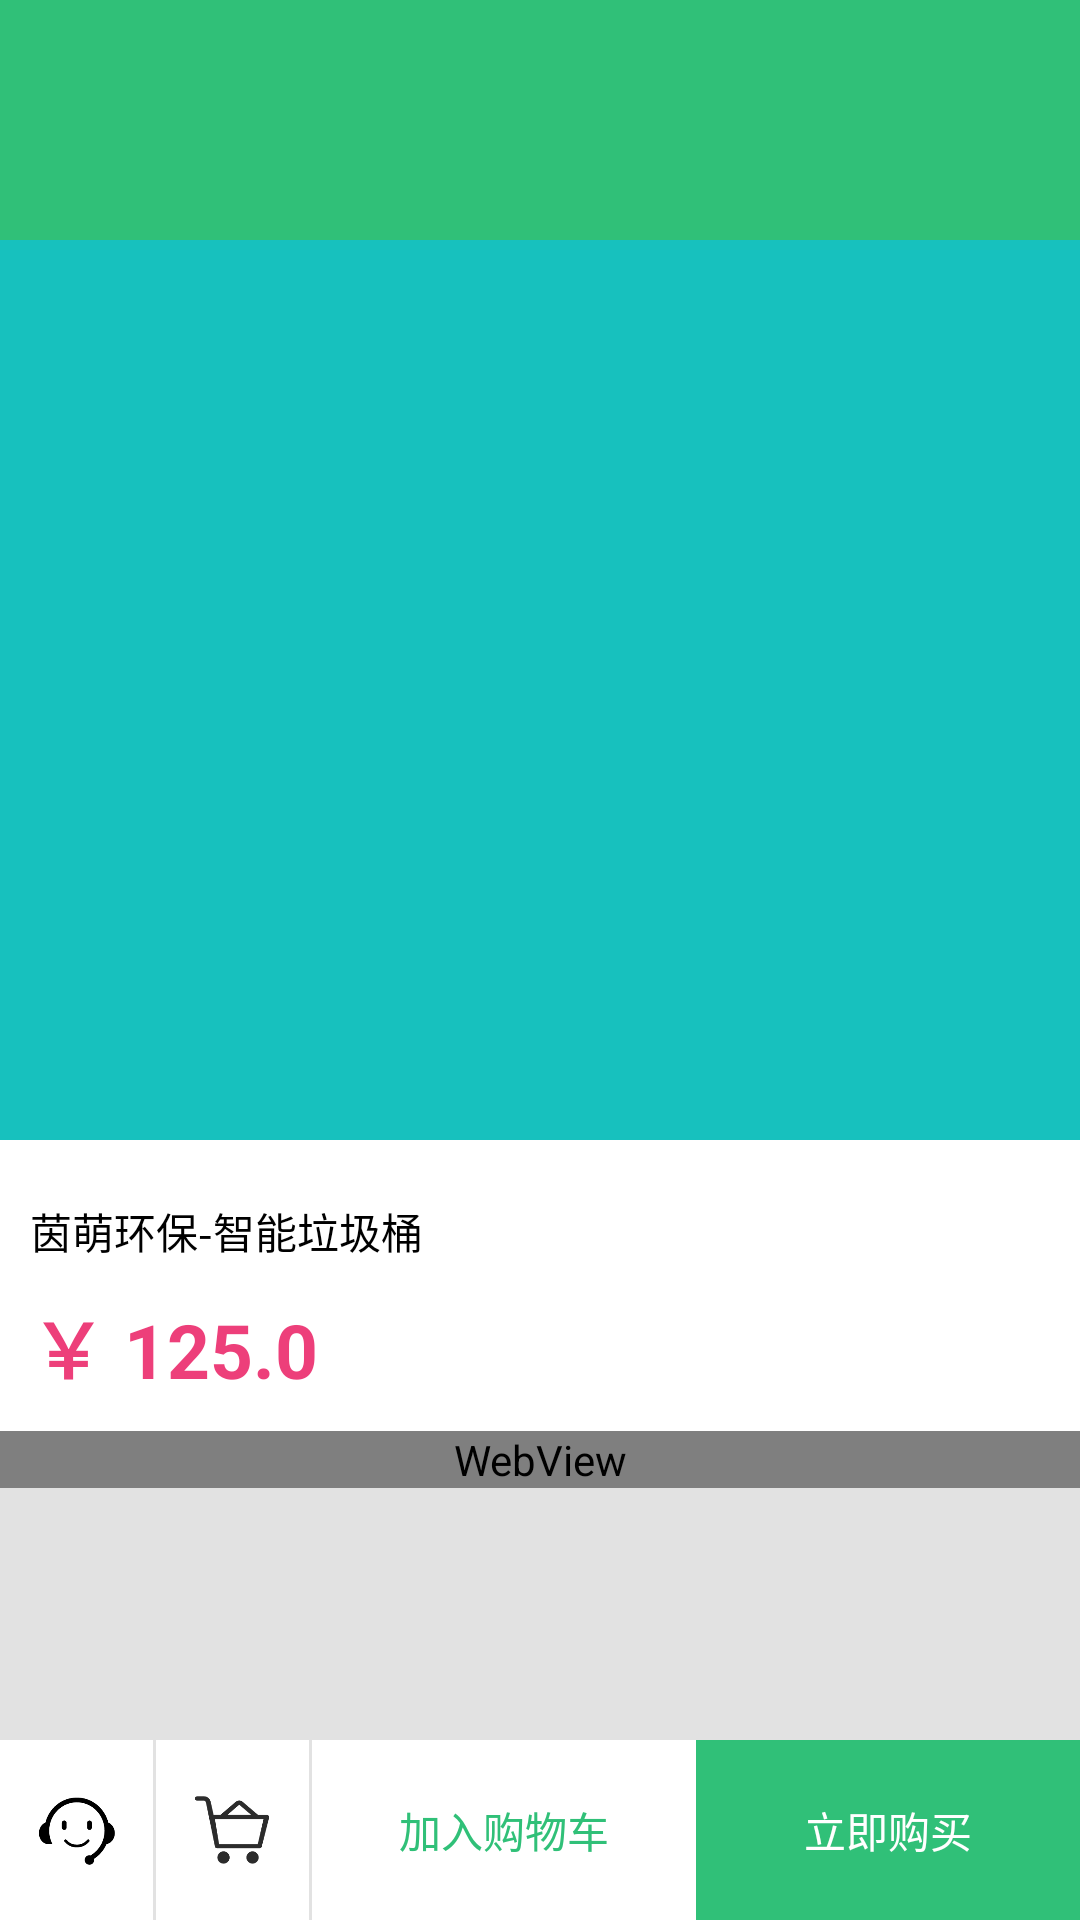

Icons on this 1080 × 1920 Android screen, each with its box as (x1, y1, x2, y2):
buy: (195, 1796, 269, 1864)
contact: (39, 1797, 115, 1865)
